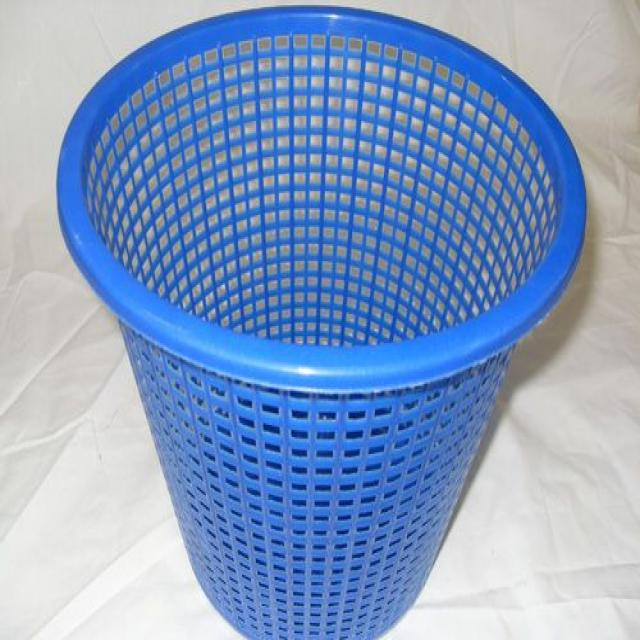Dustbin: (53, 0, 590, 640)
